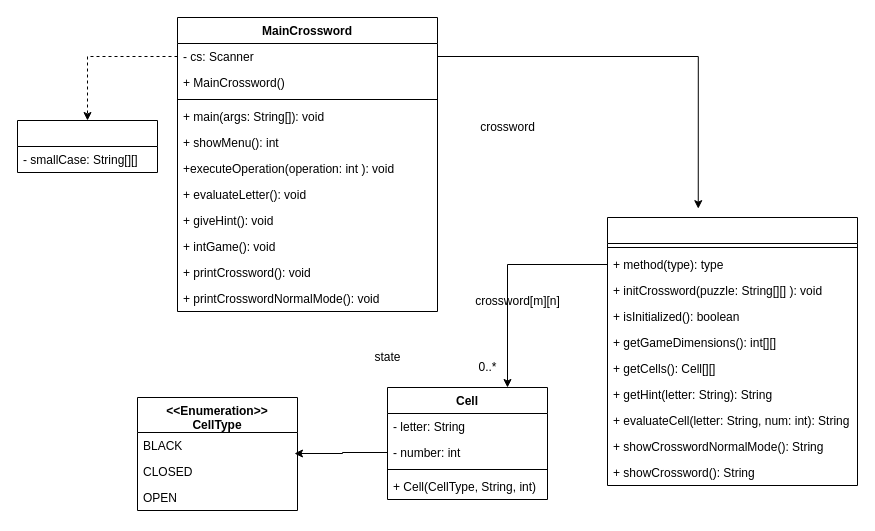
The diagram is 875 pixels wide and 531 high, and some of its shapes have lost their labels. The box of each missing label's shape, as (x1, y1, x2, y2) in pixels:
CrossWordController: (606, 216, 858, 486)
TestCase: (16, 120, 158, 172)
